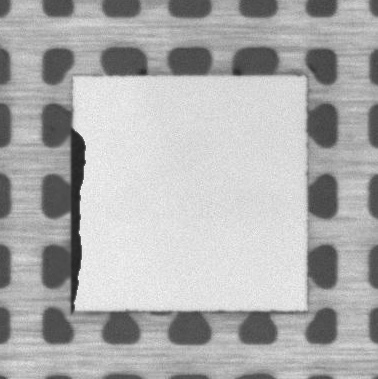DIE_BROKEN: (68, 127, 88, 312)
